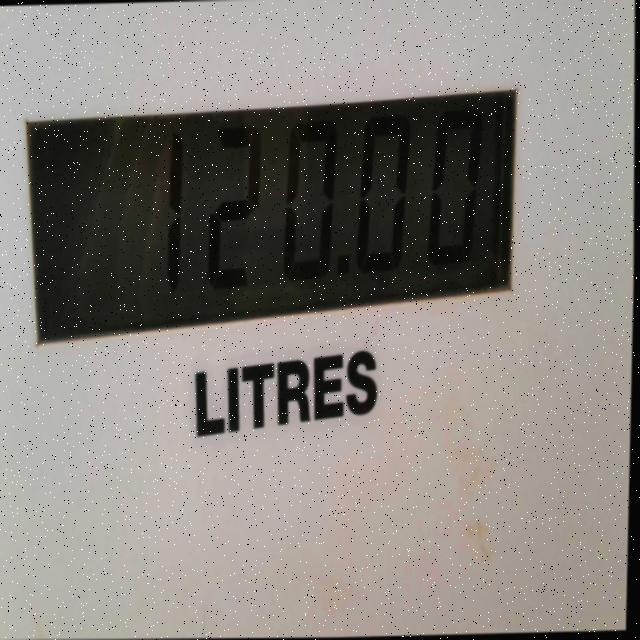.: (330, 238, 360, 302)
0: (273, 102, 347, 303), (421, 99, 499, 280), (354, 111, 423, 294)
1: (153, 128, 198, 313)
2: (196, 116, 271, 311)
